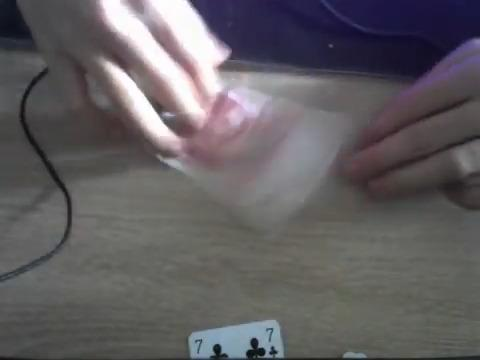5leva: (18, 0, 401, 233)
